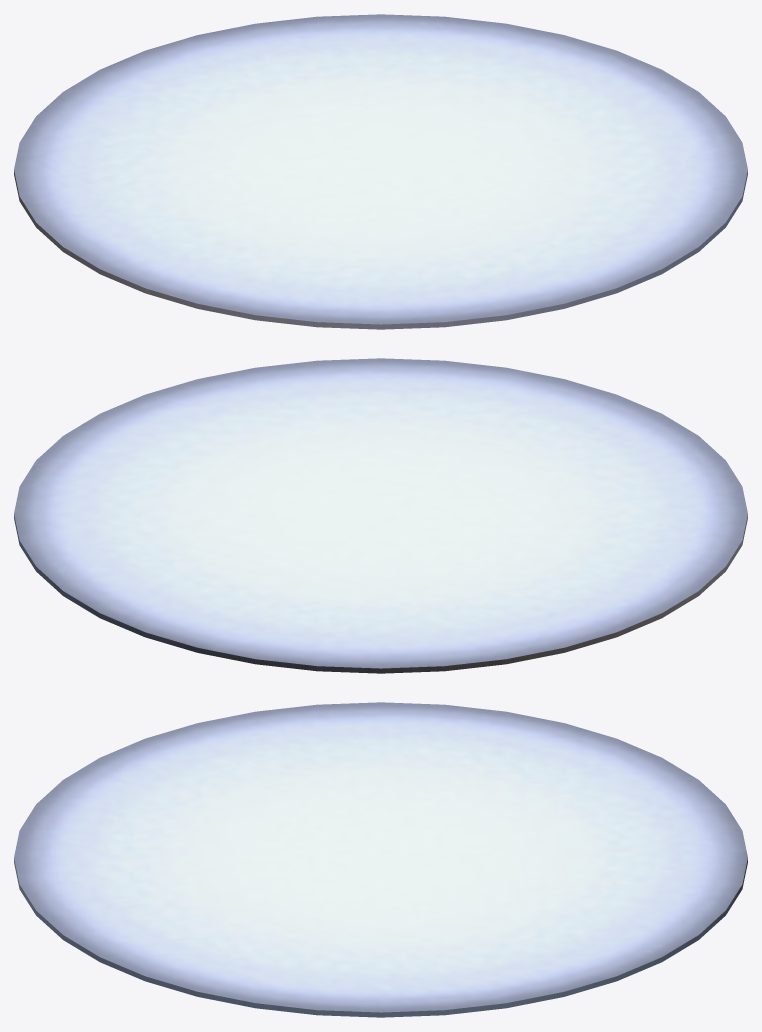
The model's file is filter.glb.
3 views of the same model, one above another, from view 1: azimuth 30°, elevation 25°; view 2: azimuth 150°, elevation 25°; view 3: azimuth 270°, elevation 25° (orthographic).
Parts seen in each view (by area): view 1: filter; view 2: filter; view 3: filter.
Boxes of the visible parts, x1,y1,x2,y2 form: filter: [14, 14, 747, 329]; filter: [14, 358, 747, 673]; filter: [14, 702, 747, 1017].
Size of the model in its own units: 0.0639 by 0.000491 by 0.0639.
1 material, 1 textured.
